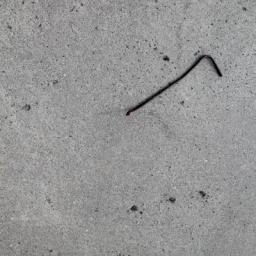FOD: (123, 52, 226, 120)
